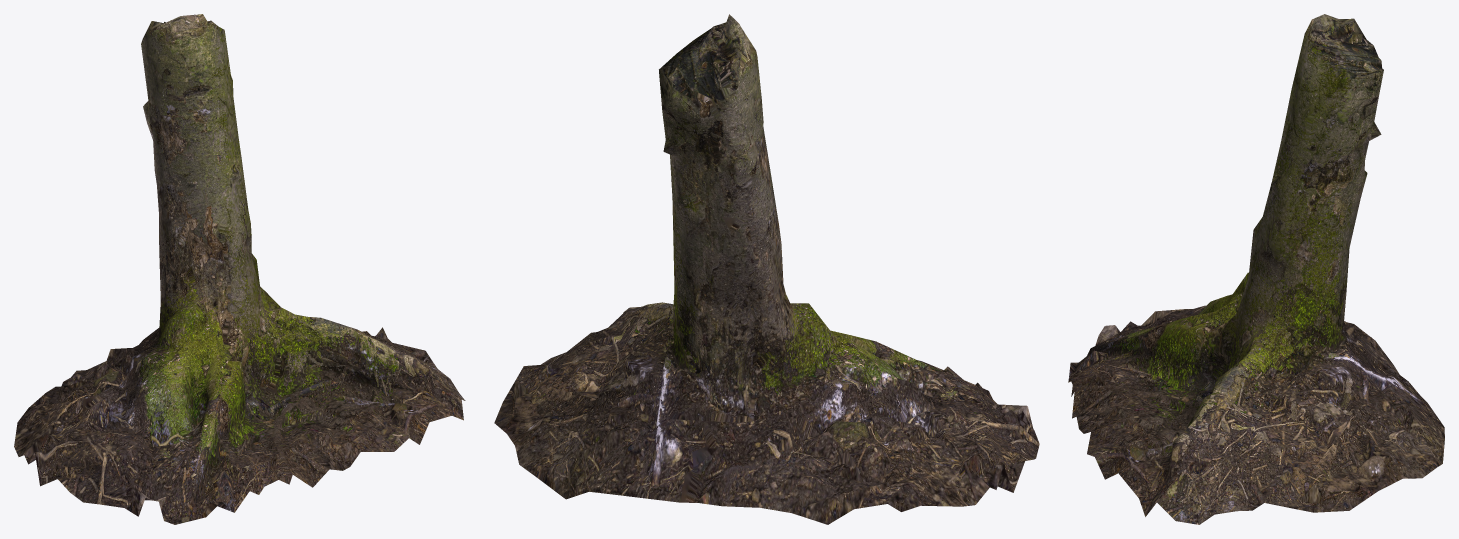
Rendered from PX_Stump_12_LOD5.fbx.
3 renders of one model, left to right at view 1: azimuth 30°, elevation 25°; view 2: azimuth 150°, elevation 25°; view 3: azimuth 270°, elevation 25°, orthographic. The views are drawn at different scales.
Visible parts, largest first — view 1: PX_Stump_12_LOD5; view 2: PX_Stump_12_LOD5; view 3: PX_Stump_12_LOD5.
Boxes of the visible parts, left/top/right/bottom form: PX_Stump_12_LOD5: left=14, top=14, right=465, bottom=524; PX_Stump_12_LOD5: left=494, top=14, right=1039, bottom=524; PX_Stump_12_LOD5: left=1068, top=14, right=1444, bottom=524.
Bounding box in the file's own units: 116 × 109 × 90.17.
